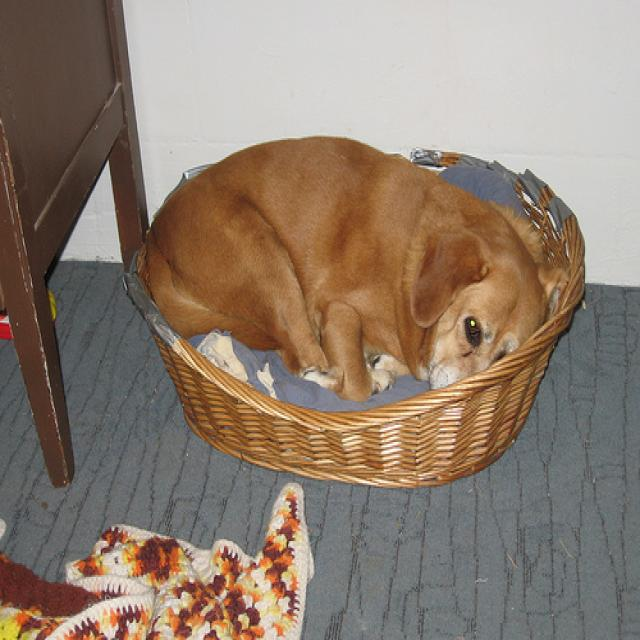dog-beagle: (142, 128, 567, 404)
